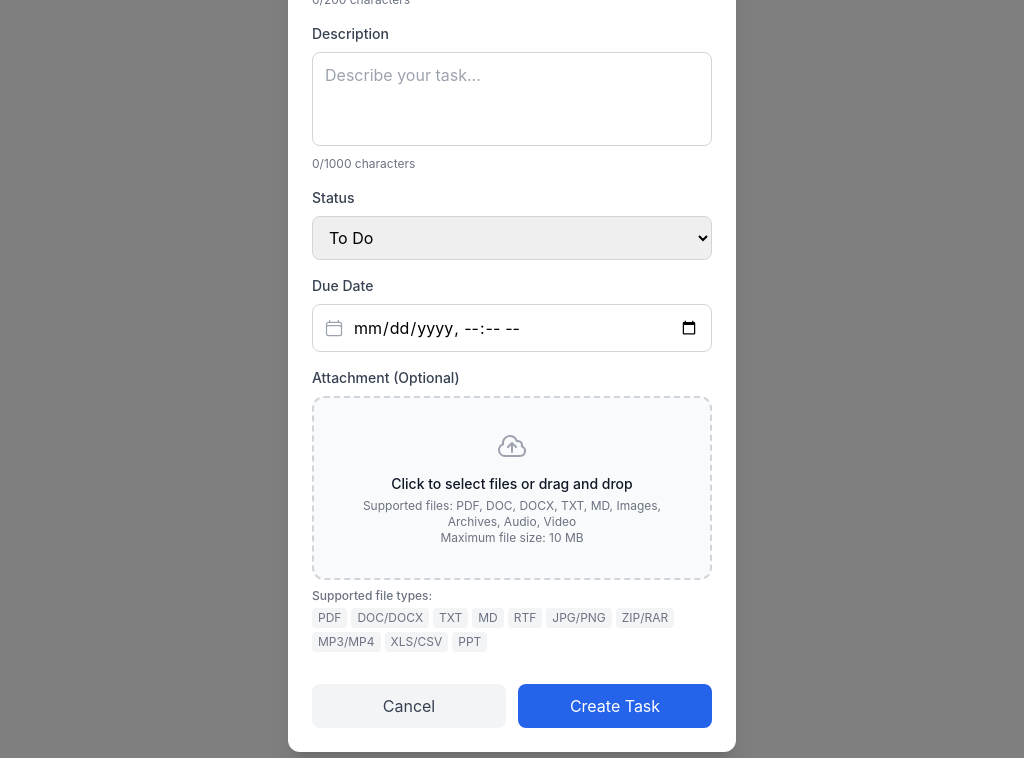
Test: TaskForm Component › clears validation errors when user fixes them
(page scrolled)
Note: First trigger validation error by submitting empty form
Click the button "Create Task". click: {"x": 615, "y": 706}
box: [518, 684, 712, 728]
(page scrolled)
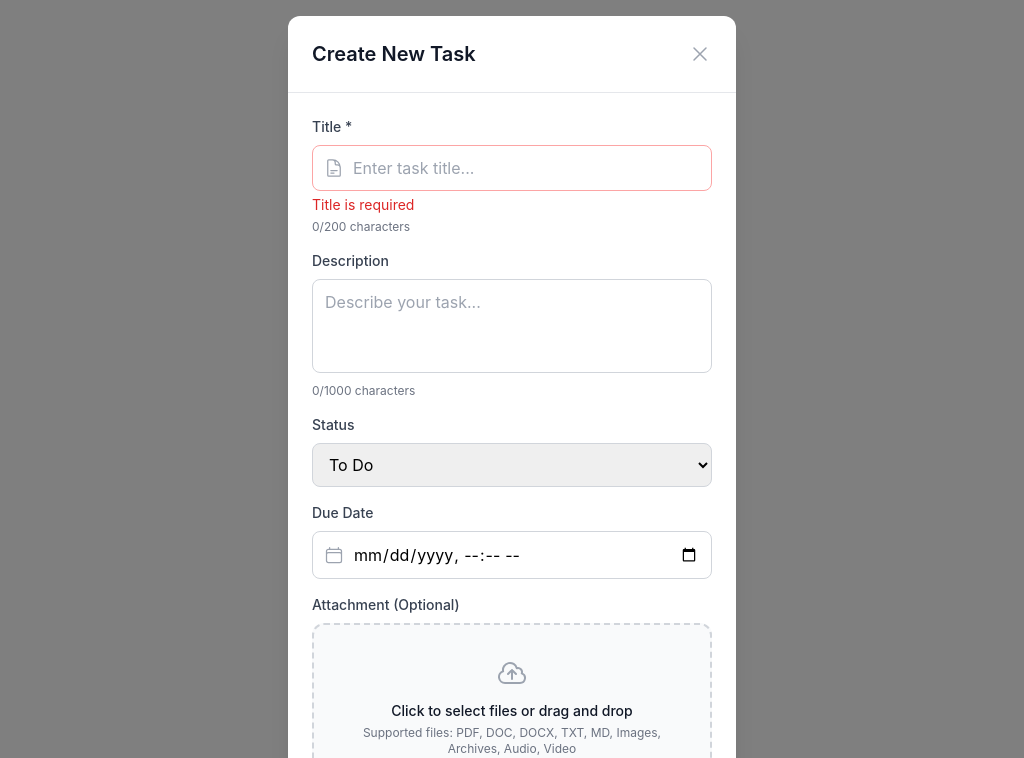
Check: the text "Title is required" is shown, box [312, 196, 414, 213]
Note: Then fix the error by adding a title
Click the field with placeholder "Enter task title...". click: {"x": 512, "y": 168}
box: [312, 145, 712, 191]
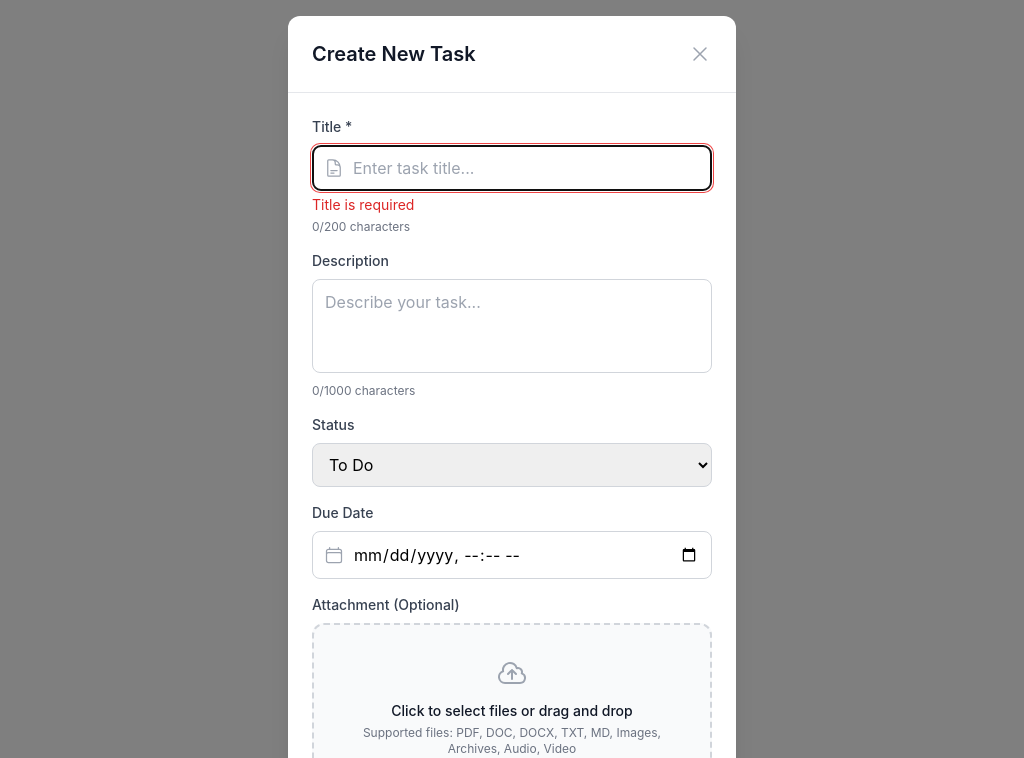
Type keys "Valid Title"
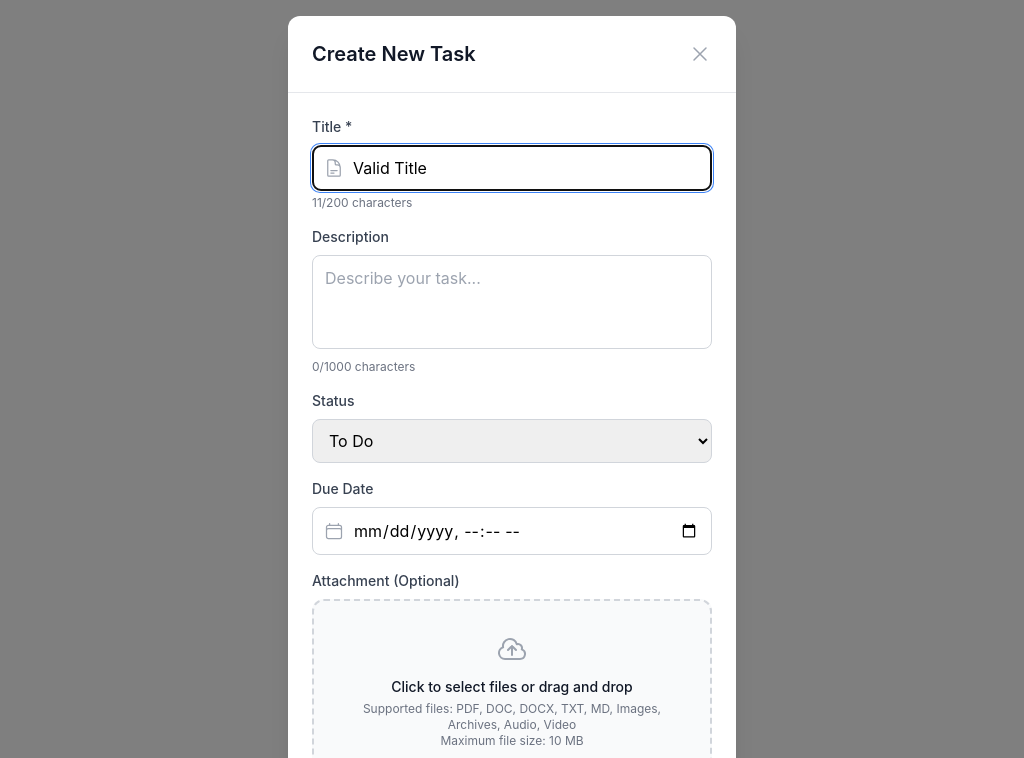
Check: the text "Title is required" is gone
